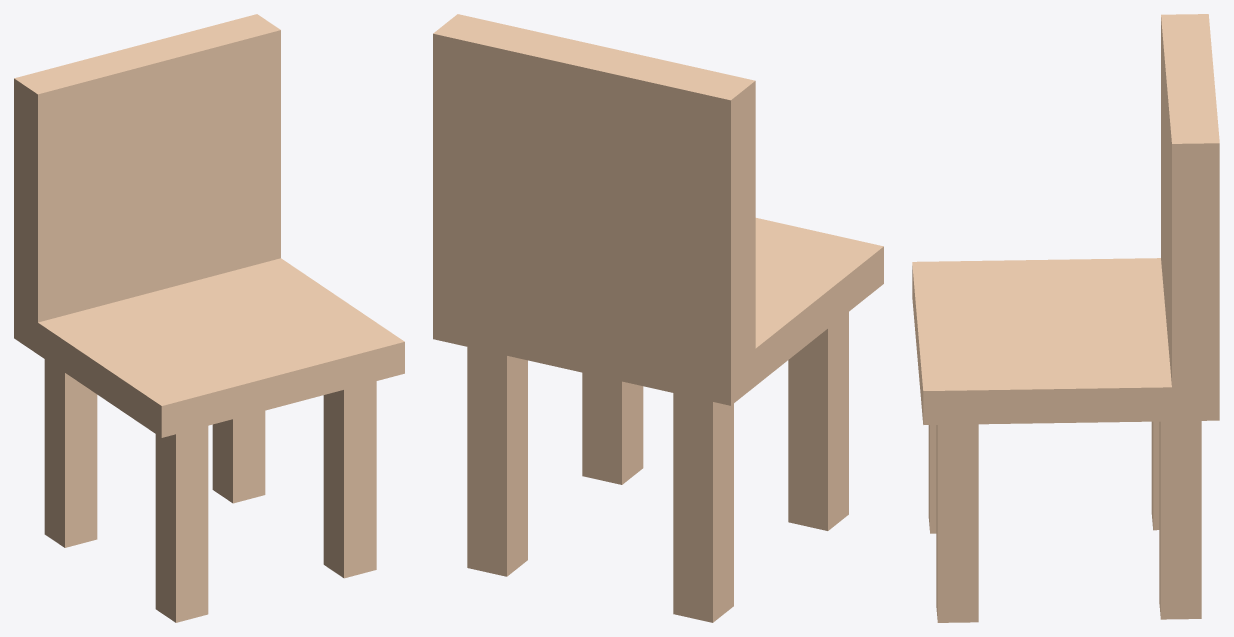
3 renders of one model, left to right at view 1: azimuth 30°, elevation 25°; view 2: azimuth 150°, elevation 25°; view 3: azimuth 270°, elevation 25°, orthographic. The views are drawn at different scales.
Visible parts, largest first — view 1: OJ4_2; view 2: OJ4_2; view 3: OJ4_2.
Part boxes in pixels (x1=…): OJ4_2: x1=14, y1=14, x2=404, y2=622; OJ4_2: x1=433, y1=14, x2=883, y2=622; OJ4_2: x1=912, y1=14, x2=1219, y2=622.
Size of the model in its own units: 0.6938 by 1.18 by 0.6742.
Materials: 1 (1 with a texture image).
